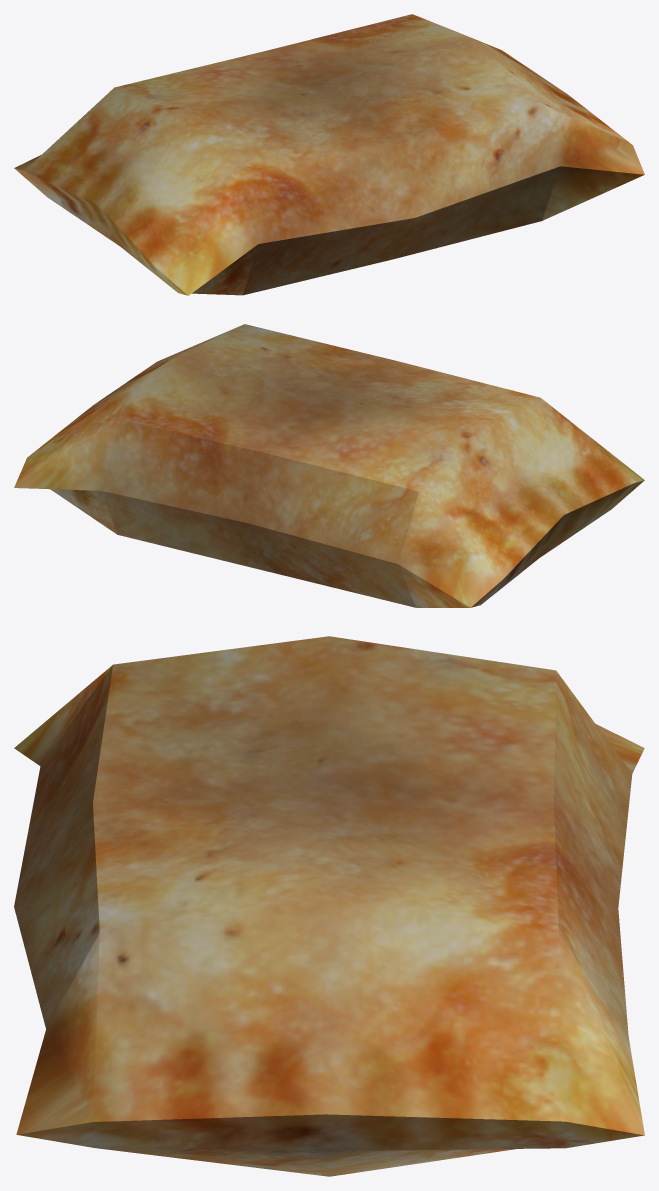
The model's file is MeatPies_3whole.fbx.
3 renders of one model, top to bottom at view 1: azimuth 30°, elevation 25°; view 2: azimuth 150°, elevation 25°; view 3: azimuth 270°, elevation 25°, orthographic. The views are drawn at different scales.
Parts seen in each view (by area): view 1: MeatPies_3whole; view 2: MeatPies_3whole; view 3: MeatPies_3whole.
Part boxes in pixels (bbox=[...]): MeatPies_3whole: bbox=[14, 14, 644, 295]; MeatPies_3whole: bbox=[14, 324, 644, 607]; MeatPies_3whole: bbox=[14, 636, 644, 1176].
Bounding box in the file's own units: 0.2632 × 0.0807 × 0.1665.
